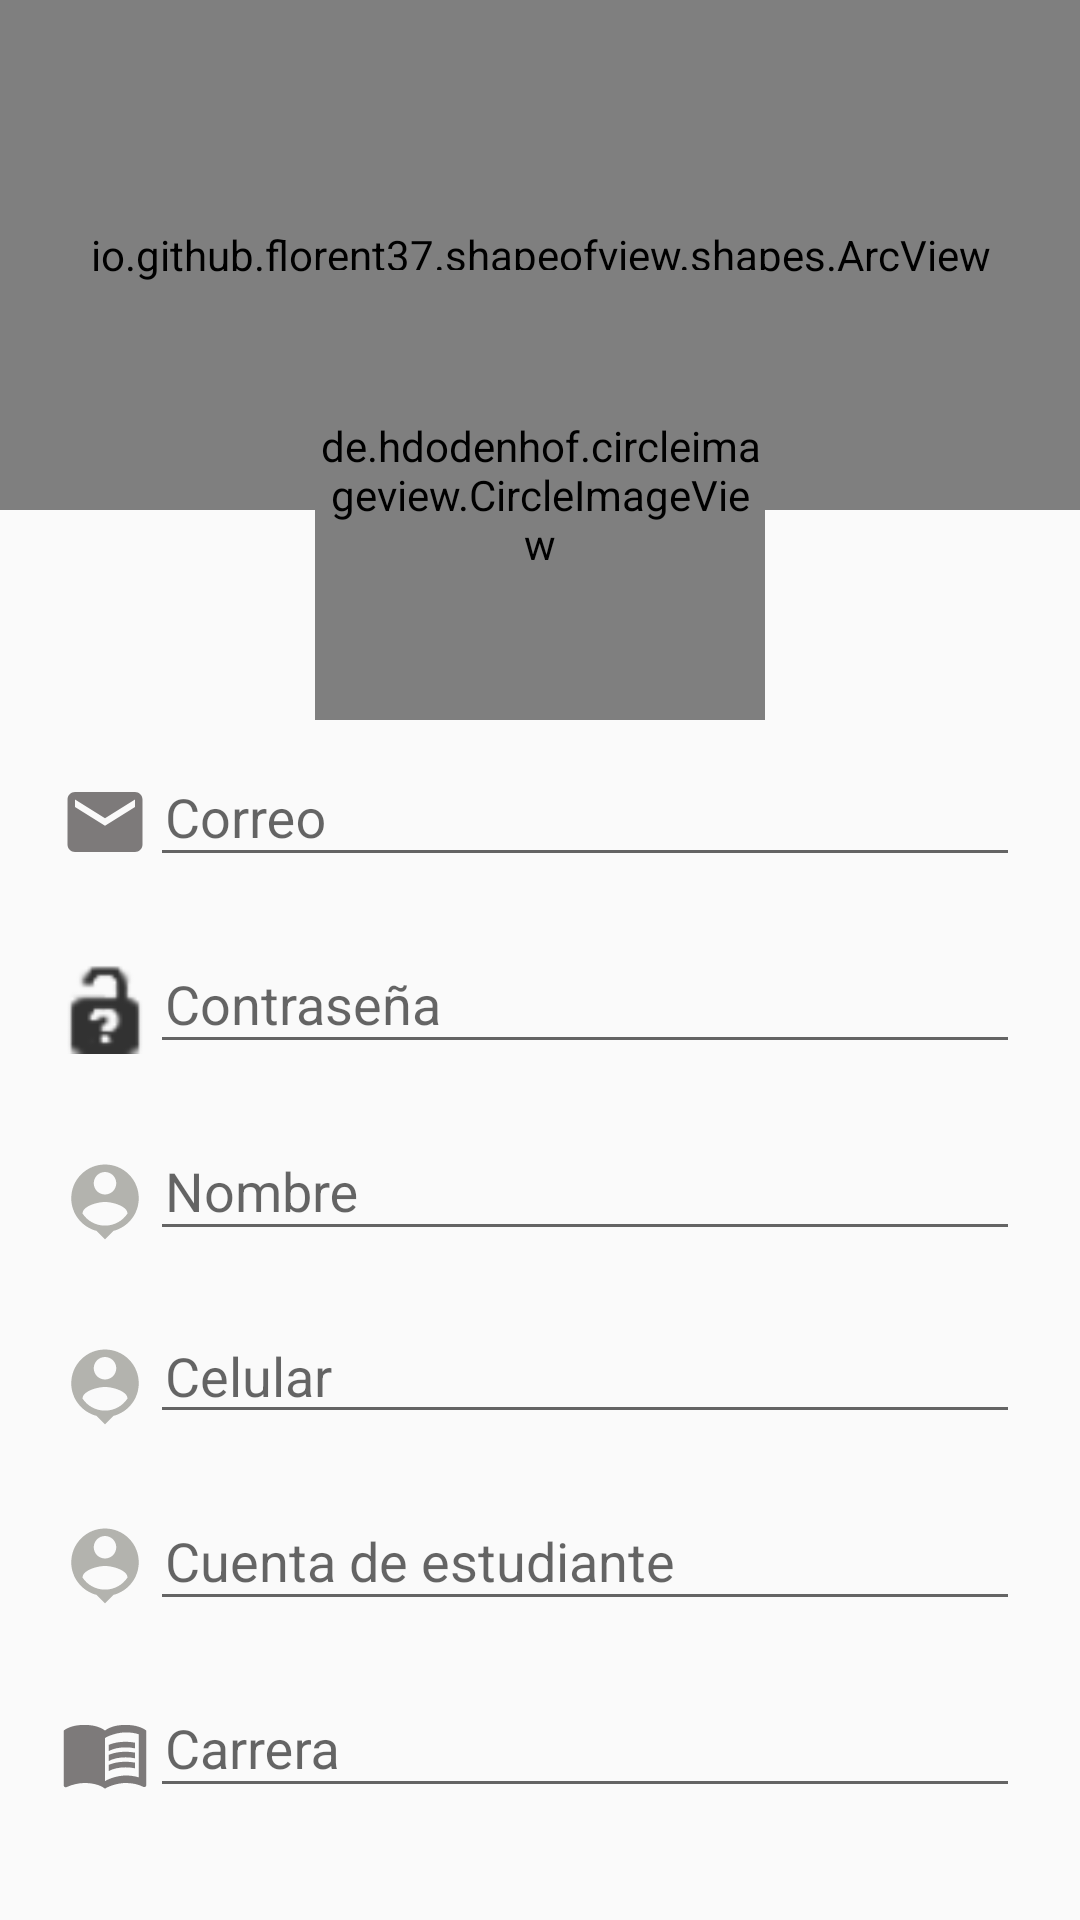

Named icons in this screenshot (1080x1920) and their bounding boxes, (x1, y1, x2, y2):
email pin: (67, 792, 143, 852)
partial secure: (70, 966, 140, 1054)
person pin: (71, 1164, 139, 1239)
